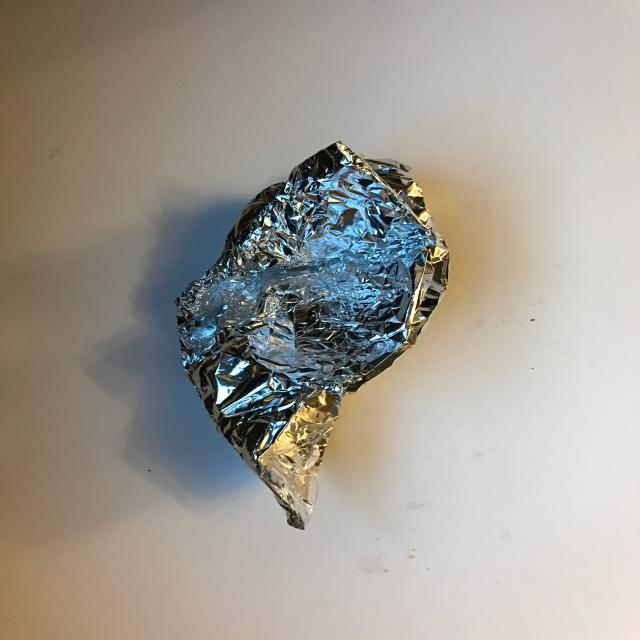metal: (175, 140, 451, 530)
